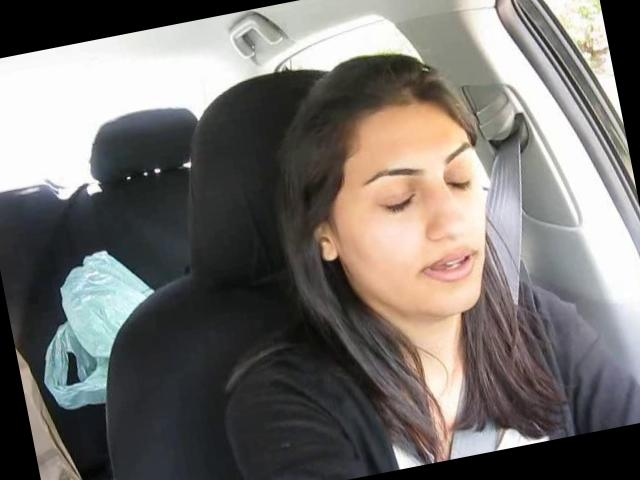eye_closed: (373, 184, 422, 222), (438, 168, 482, 202)
face: (323, 130, 512, 335)
